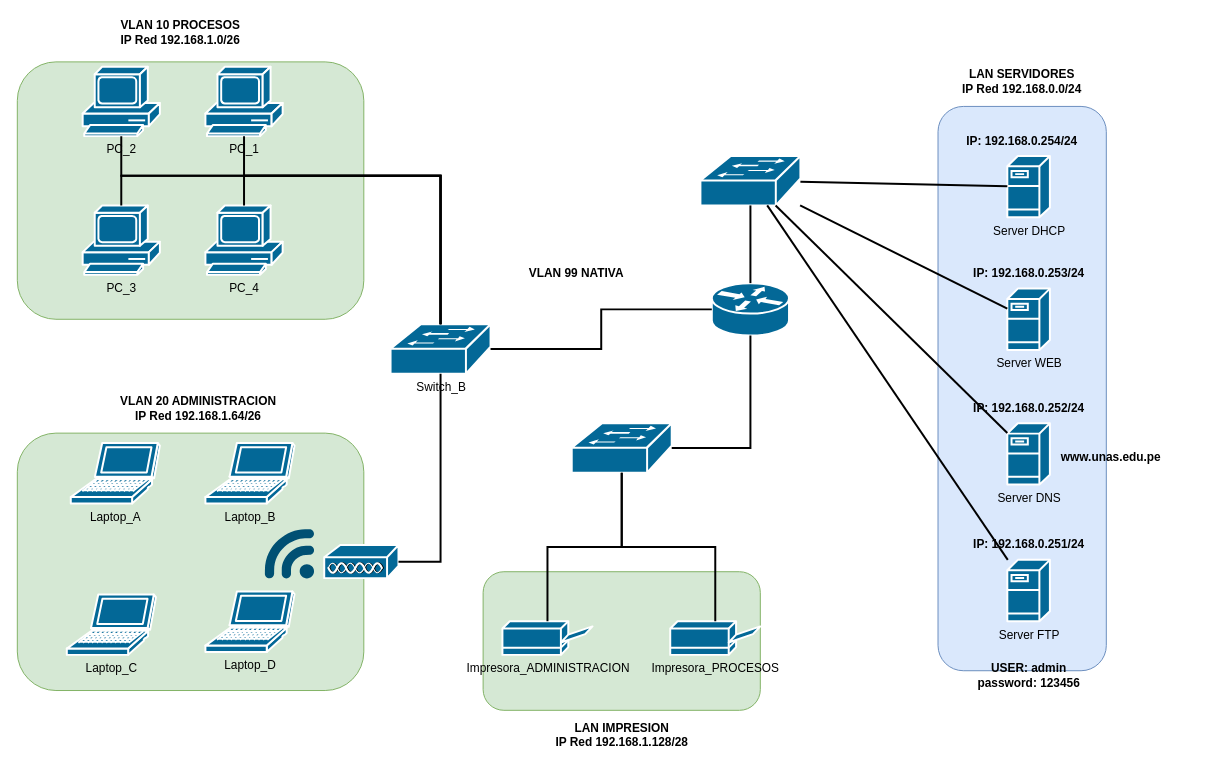
The diagram is 1213 pixels wide and 766 high, and some of its shapes have lost their labels. The shapes that lost their labels are listed below. From the top down, each one's box as (x1, y1, x2, y2) in pixels, then its label:
(699, 154, 801, 206): Switch_D
(710, 282, 790, 336): R-EDGE-ISP
(570, 422, 672, 473): Switch_A
(323, 544, 399, 579): AP-PT
